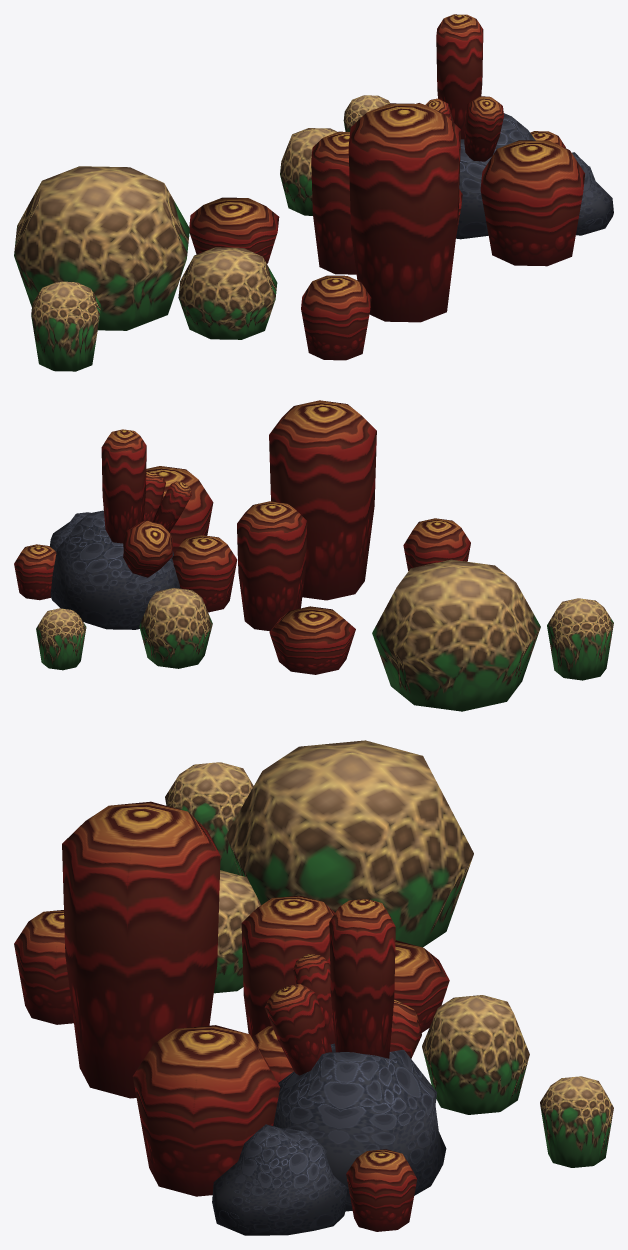
File: CoralSet_16.FBX
3 renders of one model, top to bottom at view 1: azimuth 30°, elevation 25°; view 2: azimuth 150°, elevation 25°; view 3: azimuth 270°, elevation 25°, orthographic. The views are drawn at different scales.
Parts seen in each view (by area): view 1: Set_16, Set_16_Part14, Set_16_Part15, Set_16_Part13, Set_16_Part01, Set_16_Part09, Set_16_Part03, Set_16_Part06, Set_16_Part10, Set_16_Part08, Set_16_Part17, Set_16_Part05 (+2 smaller); view 2: Set_16_Part14, Set_16, Set_16_Part08, Set_16_Part09, Set_16_Part17, Set_16_Part10, Set_16_Part01, Set_16_Part06, Set_16_Part11, Set_16_Part03, Set_16_Part18, Set_16_Part15 (+5 smaller); view 3: Set_16, Set_16_Part14, Set_16_Part15, Set_16_Part08, Set_16_Part07, Set_16_Part17, Set_16_Part06, Set_16_Part09, Set_16_Part18, Set_16_Part03, Set_16_Part01, Set_16_Part12 (+6 smaller).
Boxes of the visible parts, bbox=[...] form: Set_16: bbox=[348, 103, 460, 322]; Set_16_Part14: bbox=[14, 166, 189, 330]; Set_16_Part15: bbox=[480, 140, 584, 266]; Set_16_Part13: bbox=[178, 247, 277, 339]; Set_16_Part01: bbox=[31, 281, 100, 371]; Set_16_Part09: bbox=[311, 131, 356, 274]; Set_16_Part03: bbox=[301, 275, 371, 360]; Set_16_Part06: bbox=[436, 14, 483, 139]; Set_16_Part10: bbox=[189, 197, 279, 263]; Set_16_Part08: bbox=[456, 113, 535, 239]; Set_16_Part17: bbox=[280, 128, 337, 215]; Set_16_Part05: bbox=[464, 96, 503, 161]; Set_16_Part14: bbox=[372, 559, 540, 711]; Set_16: bbox=[269, 400, 376, 600]; Set_16_Part08: bbox=[50, 510, 180, 629]; Set_16_Part09: bbox=[237, 501, 307, 631]; Set_16_Part17: bbox=[139, 588, 212, 668]; Set_16_Part10: bbox=[269, 606, 355, 674]; Set_16_Part01: bbox=[547, 598, 613, 680]; Set_16_Part06: bbox=[101, 429, 146, 543]; Set_16_Part11: bbox=[172, 535, 237, 612]; Set_16_Part03: bbox=[403, 518, 470, 570]; Set_16_Part18: bbox=[36, 608, 86, 670]; Set_16_Part15: bbox=[146, 466, 213, 554]; Set_16: bbox=[62, 801, 220, 1098]; Set_16_Part14: bbox=[226, 740, 473, 947]; Set_16_Part15: bbox=[132, 1025, 280, 1196]; Set_16_Part08: bbox=[273, 1043, 446, 1211]; Set_16_Part07: bbox=[212, 1124, 347, 1235]; Set_16_Part17: bbox=[422, 995, 529, 1114]; Set_16_Part06: bbox=[329, 899, 395, 1058]; Set_16_Part09: bbox=[241, 895, 334, 1037]; Set_16_Part18: bbox=[540, 1076, 613, 1167]; Set_16_Part03: bbox=[14, 910, 73, 1024]; Set_16_Part01: bbox=[165, 762, 253, 875]; Set_16_Part12: bbox=[346, 1149, 417, 1231].
Size of the model in its own units: 48.71 by 15.41 by 31.82.
